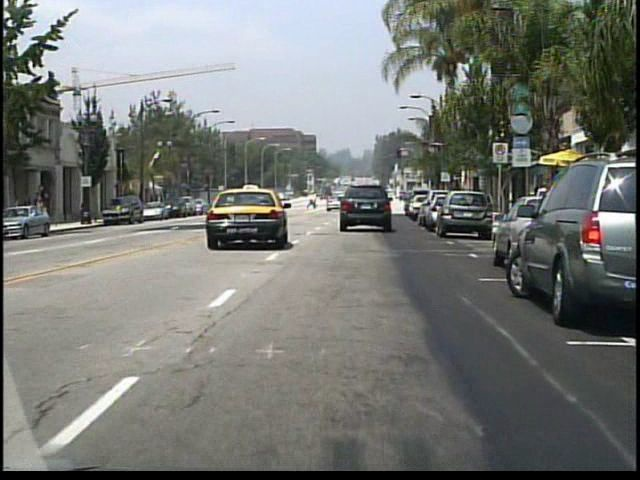person: (36, 195, 49, 226), (305, 192, 316, 211), (312, 191, 321, 210)
